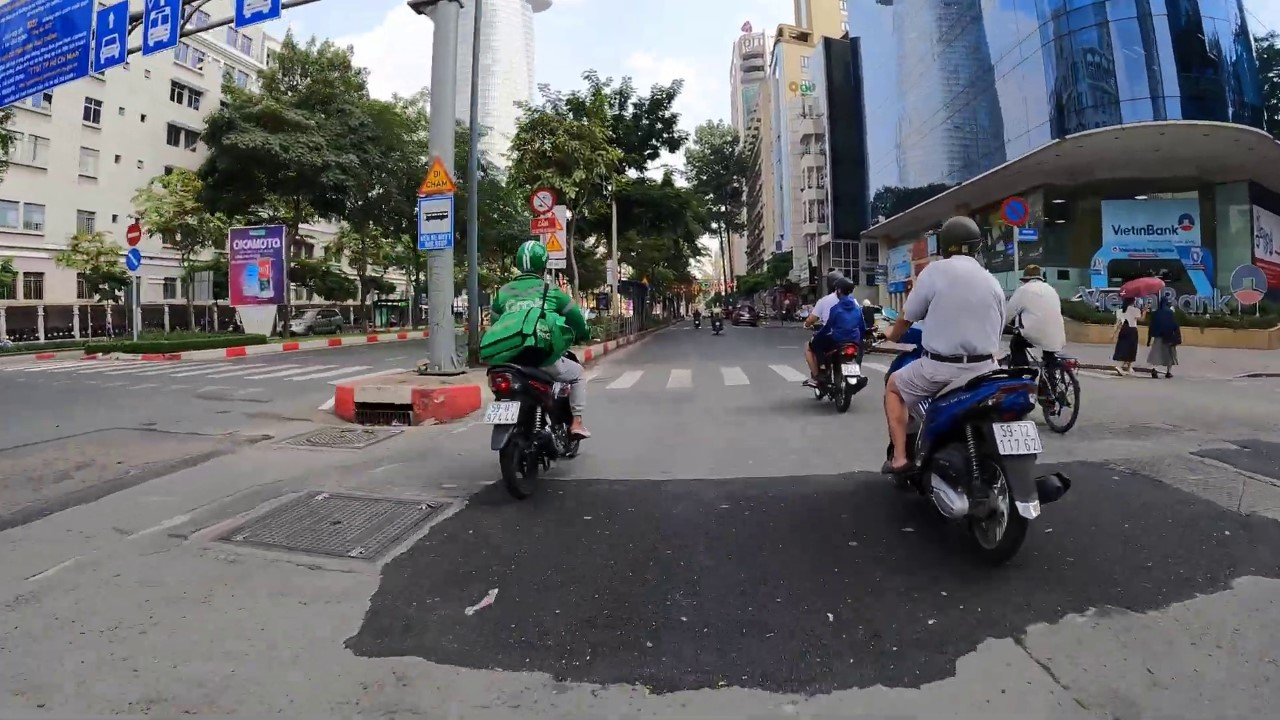cam_do_xe: (1000, 196, 1030, 225)
cam_nguoc_chieu: (125, 223, 142, 247)
can_than_nguoi_qua_duong: (544, 233, 563, 252)
di_cham: (417, 156, 455, 195)
huong_phai_di_vong: (125, 248, 141, 270)
